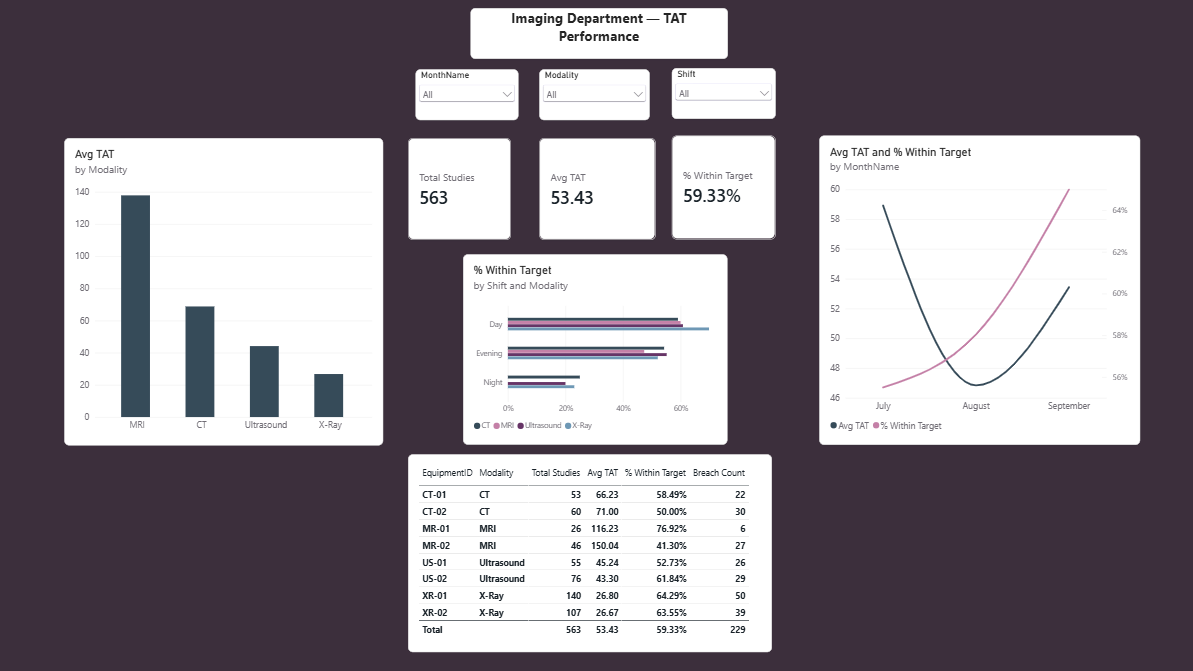

This screenshot's page, from the dashboard's own definition file:
{"tool":"powerbi","page":{"name":"TAT Performance","canvas":[1920,1080],"ordinal":0},"visuals":[{"type":"slicer","fields":{"Values":["Dim_Date.MonthName"]},"box":[668.3,113.3,165,81.7],"z":0},{"type":"slicer","fields":{"Values":["Dim_Equipment.Modality"]},"box":[866.7,113.3,176.7,81.7],"z":1000},{"type":"slicer","fields":{"Values":["Fact_Studies.Shift"]},"box":[1078.3,111.7,166.7,81.7],"z":2000},{"type":"cardVisual","fields":{"Data":["Fact_Studies.Total Studies"]},"box":[655,223.3,165,163.3],"z":3000},{"type":"cardVisual","fields":{"Data":["Fact_Studies.Avg TAT"]},"box":[866.7,223.3,186.7,163.3],"z":4000},{"type":"cardVisual","fields":{"Data":["Fact_Studies.% Within Target"]},"box":[1078.3,220,166.7,166.7],"z":5000},{"type":"columnChart","fields":{"Category":["Dim_Equipment.Modality"],"Y":["Fact_Studies.Avg TAT"]},"box":[106.7,223.3,510,491.7],"z":6000},{"type":"clusteredBarChart","fields":{"Category":["Fact_Studies.Shift"],"Series":["Dim_Equipment.Modality"],"Y":["Fact_Studies.% Within Target"]},"box":[743.3,410,423.3,305],"z":7000},{"type":"lineChart","fields":{"Category":["Dim_Date.MonthName"],"Y":["Fact_Studies.Avg TAT"],"Y2":["Fact_Studies.% Within Target"]},"box":[1313.3,220,513.3,495],"z":8000},{"type":"tableEx","fields":{"Values":["Dim_Equipment.EquipmentID","Dim_Equipment.Modality","Fact_Studies.Total Studies","Fact_Studies.Avg TAT","Fact_Studies.% Within Target","Fact_Studies.Breach Count"]},"box":[655.1,729.3,582.7,316.7],"z":9000},{"type":"textbox","box":[1471.5,125,167,162],"z":10000},{"type":"textbox","box":[755,15,411.7,81.7],"z":12000}]}

Visuals, with their boxes in screenshot pixels (x1, y1, x2, y2), scaled from the page's 1920x1080 canvas onto the 1193x671 screenshot:
slicer - Dim_Date.MonthName: [415,70,518,121]
slicer - Dim_Equipment.Modality: [539,70,648,121]
slicer - Fact_Studies.Shift: [670,69,774,120]
cardVisual - Fact_Studies.Total Studies: [407,139,510,240]
cardVisual - Fact_Studies.Avg TAT: [539,139,655,240]
cardVisual - Fact_Studies.% Within Target: [670,137,774,240]
columnChart - Dim_Equipment.Modality x Fact_Studies.Avg TAT: [66,139,383,444]
clusteredBarChart - Fact_Studies.Shift x Dim_Equipment.Modality: [462,255,725,444]
lineChart - Dim_Date.MonthName x Fact_Studies.Avg TAT: [816,137,1135,444]
tableEx - Dim_Equipment.EquipmentID x Dim_Equipment.Modality: [407,453,769,650]
textbox: [914,78,1018,178]
textbox: [469,9,725,60]
